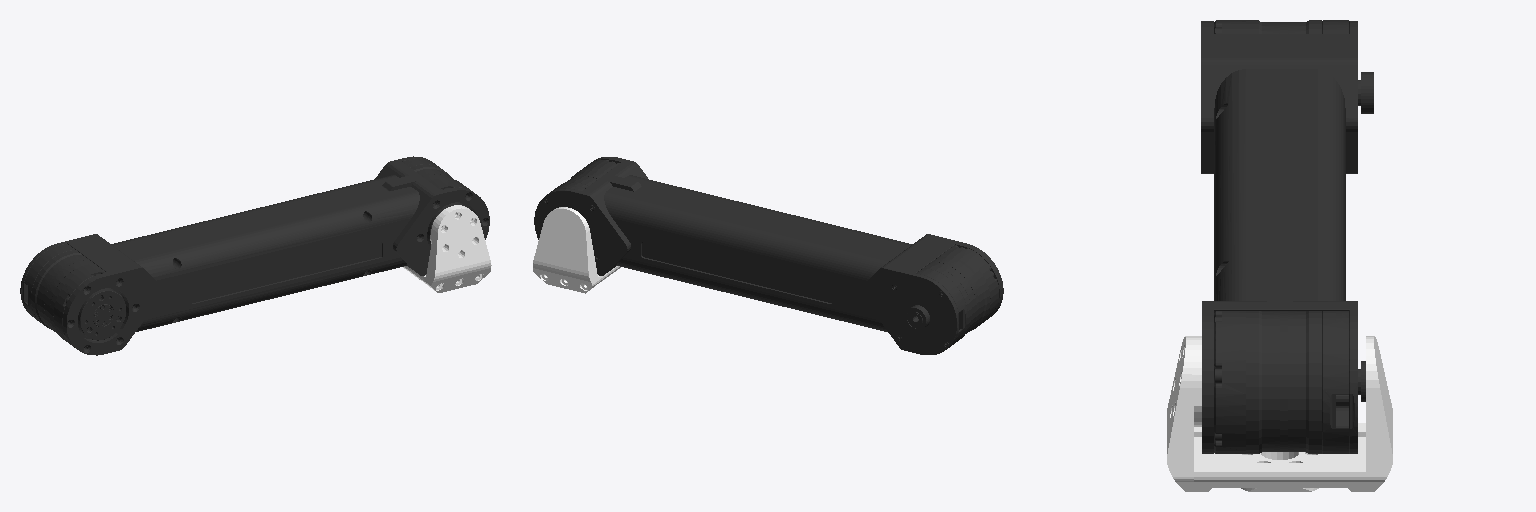
The robot description file, URDF, robot "AirbotPlayTwoFinger":
<?xml version="1.0" encoding="utf-8" ?>
<!-- This URDF was automatically created by SolidWorks to URDF Exporter! Originally created by [author] ([email redacted]) 
     Commit Version: 1.6.0-4-g7f85cfe  Build Version: 1.6.7995.38578
     For more information, please see http://wiki.ros.org/sw_urdf_exporter -->
<robot name="AirbotPlayTwoFinger">
    <mujoco>
        <compiler meshdir="../meshes/" balanceinertia="true" discardvisual="false" />
    </mujoco>
    <link name="base_link">
        <inertial>
            <origin xyz="-2.9949E-05 3.0537E-05 -0.033016" rpy="0 0 0" />
            <mass value="0.44071" />
            <inertia ixx="1.7392E-04" ixy="-3.4525E-07" ixz="-5.9337E-07" iyy="1.7547E-04" iyz="1.1271E-06" izz="1.5925E-04" />
        </inertial>
        <visual>
            <origin xyz="0 0 0" rpy="0 0 0" />
            <geometry>
                <mesh filename="package://airbot_play_twofinger/meshes/base_link.STL" />
            </geometry>
            <material name="">
                <color rgba="0.75294 0.75294 0.75294 1" />
            </material>
        </visual>
        <collision>
            <origin xyz="0 0 0" rpy="0 0 0" />
            <geometry>
                <mesh filename="package://airbot_play_twofinger/meshes/base_link.STL" />
            </geometry>
        </collision>
    </link>
    <link name="link1">
        <inertial>
            <origin xyz="-3.3048E-08 -0.00059451 0.016543" rpy="0 0 0" />
            <mass value="0.051342" />
            <inertia ixx="5.7689E-05" ixy="-7E-11" ixz="-3E-11" iyy="1.6943E-05" iyz="-3.3983E-07" izz="5.5562E-05" />
        </inertial>
        <visual>
            <origin xyz="0 0 0" rpy="0 0 0" />
            <geometry>
                <mesh filename="package://airbot_play_twofinger/meshes/link1.STL" />
            </geometry>
            <material name="">
                <color rgba="1 1 1 1" />
            </material>
        </visual>
        <collision>
            <origin xyz="0 0 0" rpy="0 0 0" />
            <geometry>
                <mesh filename="package://airbot_play_twofinger/meshes/link1.STL" />
            </geometry>
        </collision>
    </link>
    <joint name="joint1" type="revolute">
        <origin xyz="0 0 0" rpy="0 0 0" />
        <parent link="base_link" />
        <child link="link1" />
        <axis xyz="0 0 1" />
        <limit lower="-10" upper="10" effort="100" velocity="1000" />
    </joint>
    <link name="link2">
        <inertial>
            <origin xyz="0.13234 -0.00019055 -0.0019415" rpy="0 0 0" />
            <mass value="1.1379" />
            <inertia ixx="5.3430993E-04" ixy="-4.820824E-05" ixz="7.5502E-07" iyy="0" iyz="-2.6064E-07" izz="1.617805616E-02" />
        </inertial>
        <visual>
            <origin xyz="0 0 0" rpy="0 0 0" />
            <geometry>
                <mesh filename="package://airbot_play_twofinger/meshes/link2.STL" />
            </geometry>
            <material name="">
                <color rgba="0.25098 0.25098 0.25098 1" />
            </material>
        </visual>
        <collision>
            <origin xyz="0 0 0" rpy="0 0 0" />
            <geometry>
                <mesh filename="package://airbot_play_twofinger/meshes/link2.STL" />
            </geometry>
        </collision>
    </link>
    <joint name="joint2" type="revolute">
        <origin xyz="0 0 0.0402" rpy="-1.5708 0.0016463 3.1416" />
        <parent link="link1" />
        <child link="link2" />
        <axis xyz="0 0 1" />
        <limit lower="-10" upper="10" effort="100" velocity="1000" />
    </joint>
    <link name="link3">
        <inertial>
            <origin xyz="0.18498 0.0096239 8.209E-05" rpy="0 0 0" />
            <mass value="0.55615" />
            <inertia ixx="3.6463748E-04" ixy="-4.7568977E-04" ixz="-9.61418E-06" iyy="4.59290981E-03" iyz="-1.90857E-06" izz="4.61730434E-03" />
        </inertial>
        <visual>
            <origin xyz="0 0 0" rpy="0 0 0" />
            <geometry>
                <mesh filename="package://airbot_play_twofinger/meshes/link3.STL" />
            </geometry>
            <material name="">
                <color rgba="0.75294 0.75294 0.75294 1" />
            </material>
        </visual>
        <collision>
            <origin xyz="0 0 0" rpy="0 0 0" />
            <geometry>
                <mesh filename="package://airbot_play_twofinger/meshes/link3.STL" />
            </geometry>
        </collision>
    </link>
    <joint name="joint3" type="revolute">
        <origin xyz="0.264 0 0" rpy="0 0 -2.9169" />
        <parent link="link2" />
        <child link="link3" />
        <axis xyz="0 0 1" />
        <limit lower="-10" upper="10" effort="100" velocity="1000" />
    </joint>
    <link name="link4">
        <inertial>
            <origin xyz="0.05354 -0.0002508 -0.00056729" rpy="0 0 0" />
            <mass value="0.35037" />
            <inertia ixx="1.1078784E-04" ixy="5.68483E-06" ixz="-1.778429E-05" iyy="2.1478415E-04" iyz="-6.32521E-06" izz="1.6720967E-04" />
        </inertial>
        <visual>
            <origin xyz="0 0 0" rpy="0 0 0" />
            <geometry>
                <mesh filename="package://airbot_play_twofinger/meshes/link4.STL" />
            </geometry>
            <material name="">
                <color rgba="0.89804 0.91765 0.92941 1" />
            </material>
        </visual>
        <collision>
            <origin xyz="0 0 0" rpy="0 0 0" />
            <geometry>
                <mesh filename="package://airbot_play_twofinger/meshes/link4.STL" />
            </geometry>
        </collision>
    </link>
    <joint name="joint4" type="revolute">
        <origin xyz="0.25132 0 0" rpy="0 0 -0.22636" />
        <parent link="link3" />
        <child link="link4" />
        <axis xyz="0 0 1" />
        <limit lower="-10" upper="10" effort="100" velocity="1000" />
    </joint>
    <link name="link5">
        <inertial>
            <origin xyz="0.051613 -0.00072588 -0.00061659" rpy="0 0 0" />
            <mass value="0.33138" />
            <inertia ixx="3.1443063E-04" ixy="3.6082E-07" ixz="-7.6431E-07" iyy="2.9391628E-04" iyz="-1.8877E-07" izz="2.9233995E-04" />
        </inertial>
        <visual>
            <origin xyz="0 0 0" rpy="0 0 0" />
            <geometry>
                <mesh filename="package://airbot_play_twofinger/meshes/link5.STL" />
            </geometry>
            <material name="">
                <color rgba="0.41176 0.41176 0.41176 1" />
            </material>
        </visual>
        <collision>
            <origin xyz="0 0 0" rpy="0 0 0" />
            <geometry>
                <mesh filename="package://airbot_play_twofinger/meshes/link5.STL" />
            </geometry>
        </collision>
    </link>
    <joint name="joint5" type="revolute">
        <origin xyz="0.06 -0.0005 -0.002" rpy="-1.5708 -0.0025284 0" />
        <parent link="link4" />
        <child link="link5" />
        <axis xyz="0 0 1" />
        <limit lower="-10" upper="10" effort="100" velocity="1000" />
    </joint>
    <link name="connect_link">
        <inertial>
            <origin xyz="0 0 0" rpy="0 0 0" />
            <mass value="0.00001" />
            <inertia ixx="6.34346460883134E-05" ixy="2.04299805834162E-05" ixz="-3.99923914087956E-08" iyy="5.24195258718733E-05" iyz="2.03068149625313E-08" izz="6.53446125054613E-05" />
        </inertial>
    </link>
    <joint name="joint6" type="revolute">
        <origin xyz="0.075 0 0" rpy="0 0 0" />
        <parent link="link5" />
        <child link="connect_link" />
        <axis xyz="1 0 0" />
        <limit lower="-10" upper="10" effort="100" velocity="1000" />
    </joint>
    <link name="base_link_g">
        <inertial>
            <origin xyz="0.00339303654278191 -2.1205433560656E-05 -0.0099185365078758" rpy="0 0 0" />
            <mass value="0.105853592307918" />
            <inertia ixx="3.93795927851199E-05" ixy="-8.7395226509728E-08" ixz="5.91928672040786E-07" iyy="0.000106376720416166" iyz="-1.82858764303774E-10" izz="0.000125852616063213" />
        </inertial>
        <visual>
            <origin xyz="0 0 0" rpy="0 0 0" />
            <geometry>
                <mesh filename="package://airbot_play_twofinger/meshes/base_link_g.STL" />
            </geometry>
            <material name="">
                <color rgba="0.894117647058823 0.913725490196078 0.929411764705882 1" />
            </material>
        </visual>
        <collision>
            <origin xyz="0 0 0" rpy="0 0 0" />
            <geometry>
                <mesh filename="package://airbot_play_twofinger/meshes/base_link_g.STL" />
            </geometry>
        </collision>
    </link>
    <joint name="connect_joint" type="fixed">
        <origin xyz="0.0457 0 0.01" rpy="0 0 0" />
        <parent link="connect_link" />
        <child link="base_link_g" />
        <axis xyz="1 0 0" />
    </joint>
    <link name="Link1">
        <inertial>
            <origin xyz="0.0164149658242926 9.75754915755189E-09 0.00898193900447147" rpy="0 0 0" />
            <mass value="0.00647716099397792" />
            <inertia ixx="2.95068972140683E-07" ixy="8.63208170411155E-13" ixz="-1.92008628754607E-09" iyy="1.69979619476872E-06" iyz="-1.99232397395103E-13" izz="1.45016449434989E-06" />
        </inertial>
        <visual>
            <origin xyz="0 0 0" rpy="0 0 0" />
            <geometry>
                <mesh filename="package://airbot_play_twofinger/meshes/Link1.STL" />
            </geometry>
            <material name="">
                <color rgba="0.894117647058823 0.913725490196078 0.929411764705882 1" />
            </material>
        </visual>
        <collision>
            <origin xyz="0 0 0" rpy="0 0 0" />
            <geometry>
                <mesh filename="package://airbot_play_twofinger/meshes/Link1.STL" />
            </geometry>
        </collision>
    </link>
    <joint name="Link1" type="revolute">
        <origin xyz="0.036 -0.04 -0.019" rpy="-3.0158E-16 -7.1586E-16 -0.30719" />
        <parent link="base_link_g" />
        <child link="Link1" />
        <axis xyz="0 0 1" />
        <limit lower="0" upper="1" effort="1" velocity="1" />
    </joint>
    <link name="Link11">
        <inertial>
            <origin xyz="0.011366555972498 0.0118642725662323 0.0060000073930068" rpy="0 0 0" />
            <mass value="0.0127543420299361" />
            <inertia ixx="5.68538478020233E-07" ixy="-2.68012262729007E-07" ixz="9.34125984931838E-13" iyy="1.45145776457487E-06" iyz="9.34355360561326E-13" izz="1.50564598220449E-06" />
        </inertial>
        <visual>
            <origin xyz="0 0 0" rpy="0 0 0" />
            <geometry>
                <mesh filename="package://airbot_play_twofinger/meshes/Link11.STL" />
            </geometry>
            <material name="">
                <color rgba="0.894117647058823 0.913725490196078 0.929411764705882 1" />
            </material>
        </visual>
        <collision>
            <origin xyz="0 0 0" rpy="0 0 0" />
            <geometry>
                <mesh filename="package://airbot_play_twofinger/meshes/Link11.STL" />
            </geometry>
        </collision>
    </link>
    <joint name="Link11" type="revolute">
        <origin xyz="0.042 0 0.003" rpy="5.0393E-16 5.6225E-16 0.30719" />
        <parent link="Link1" />
        <child link="Link11" />
        <axis xyz="0 0 1" />
        <limit lower="-1" upper="0" effort="1" velocity="1" />
    </joint>
    <link name="Link2">
        <inertial>
            <origin xyz="0.0164149658242926 9.75754915755189E-09 0.00898193900447147" rpy="0 0 0" />
            <mass value="0.00647716099397793" />
            <inertia ixx="2.95068972140683E-07" ixy="8.63208169650113E-13" ixz="-1.92008628755341E-09" iyy="1.69979619476872E-06" iyz="-1.99232397320157E-13" izz="1.45016449434989E-06" />
        </inertial>
        <visual>
            <origin xyz="0 0 0" rpy="0 0 0" />
            <geometry>
                <mesh filename="package://airbot_play_twofinger/meshes/Link2.STL" />
            </geometry>
            <material name="">
                <color rgba="0.894117647058823 0.913725490196078 0.929411764705882 1" />
            </material>
        </visual>
        <collision>
            <origin xyz="0 0 0" rpy="0 0 0" />
            <geometry>
                <mesh filename="package://airbot_play_twofinger/meshes/Link2.STL" />
            </geometry>
        </collision>
    </link>
    <joint name="Link2" type="revolute">
        <origin xyz="0.036 0.04 -0.019" rpy="-2.6397E-16 3.7199E-16 0.30719" />
        <parent link="base_link_g" />
        <child link="Link2" />
        <axis xyz="0 0 1" />
        <limit lower="-1" upper="0" effort="1" velocity="1" />
    </joint>
    <link name="Link22">
        <inertial>
            <origin xyz="-0.011366555972498 0.0118642725662323 -0.0060000073930068" rpy="0 0 0" />
            <mass value="0.0127543420299362" />
            <inertia ixx="5.68538478020238E-07" ixy="2.6801226272901E-07" ixz="9.34125986250171E-13" iyy="1.45145776457489E-06" iyz="-9.34355361631596E-13" izz="1.5056459822045E-06" />
        </inertial>
        <visual>
            <origin xyz="0 0 0" rpy="0 0 0" />
            <geometry>
                <mesh filename="package://airbot_play_twofinger/meshes/Link22.STL" />
            </geometry>
            <material name="">
                <color rgba="0.894117647058823 0.913725490196078 0.929411764705882 1" />
            </material>
        </visual>
        <collision>
            <origin xyz="0 0 0" rpy="0 0 0" />
            <geometry>
                <mesh filename="package://airbot_play_twofinger/meshes/Link22.STL" />
            </geometry>
        </collision>
    </link>
    <joint name="Link22" type="revolute">
        <origin xyz="0.042 0 0.015" rpy="-3.641E-16 2.4584E-16 2.8344" />
        <parent link="Link2" />
        <child link="Link22" />
        <axis xyz="0 0 1" />
        <limit lower="0" upper="1" effort="1" velocity="1" />
    </joint>
    <transmission name="trans_joint1">
        <type>transmission_interface/SimpleTransmission</type>
        <joint name="joint1">
            <hardwareInterface>hardware_interface/PositionJointInterface</hardwareInterface>
        </joint>
        <actuator name="joint1_motor">
            <hardwareInterface>hardware_interface/PositionJointInterface</hardwareInterface>
            <mechanicalReduction>1</mechanicalReduction>
        </actuator>
    </transmission>
    <transmission name="trans_joint2">
        <type>transmission_interface/SimpleTransmission</type>
        <joint name="joint2">
            <hardwareInterface>hardware_interface/PositionJointInterface</hardwareInterface>
        </joint>
        <actuator name="joint2_motor">
            <hardwareInterface>hardware_interface/PositionJointInterface</hardwareInterface>
            <mechanicalReduction>1</mechanicalReduction>
        </actuator>
    </transmission>
    <transmission name="trans_joint3">
        <type>transmission_interface/SimpleTransmission</type>
        <joint name="joint3">
            <hardwareInterface>hardware_interface/PositionJointInterface</hardwareInterface>
        </joint>
        <actuator name="joint3_motor">
            <hardwareInterface>hardware_interface/PositionJointInterface</hardwareInterface>
            <mechanicalReduction>1</mechanicalReduction>
        </actuator>
    </transmission>
    <transmission name="trans_joint4">
        <type>transmission_interface/SimpleTransmission</type>
        <joint name="joint4">
            <hardwareInterface>hardware_interface/PositionJointInterface</hardwareInterface>
        </joint>
        <actuator name="joint4_motor">
            <hardwareInterface>hardware_interface/PositionJointInterface</hardwareInterface>
            <mechanicalReduction>1</mechanicalReduction>
        </actuator>
    </transmission>
    <transmission name="trans_joint5">
        <type>transmission_interface/SimpleTransmission</type>
        <joint name="joint5">
            <hardwareInterface>hardware_interface/PositionJointInterface</hardwareInterface>
        </joint>
        <actuator name="joint5_motor">
            <hardwareInterface>hardware_interface/PositionJointInterface</hardwareInterface>
            <mechanicalReduction>1</mechanicalReduction>
        </actuator>
    </transmission>
    <transmission name="trans_joint6">
        <type>transmission_interface/SimpleTransmission</type>
        <joint name="joint6">
            <hardwareInterface>hardware_interface/PositionJointInterface</hardwareInterface>
        </joint>
        <actuator name="joint6_motor">
            <hardwareInterface>hardware_interface/PositionJointInterface</hardwareInterface>
            <mechanicalReduction>1</mechanicalReduction>
        </actuator>
    </transmission>
    <transmission name="trans_Link1">
        <type>transmission_interface/SimpleTransmission</type>
        <joint name="Link1">
            <hardwareInterface>hardware_interface/EffortJointInterface</hardwareInterface>
        </joint>
        <actuator name="Link1_motor">
            <hardwareInterface>hardware_interface/EffortJointInterface</hardwareInterface>
            <mechanicalReduction>1</mechanicalReduction>
        </actuator>
    </transmission>
    <transmission name="trans_Link11">
        <type>transmission_interface/SimpleTransmission</type>
        <joint name="Link11">
            <hardwareInterface>hardware_interface/EffortJointInterface</hardwareInterface>
        </joint>
        <actuator name="Link11_motor">
            <hardwareInterface>hardware_interface/EffortJointInterface</hardwareInterface>
            <mechanicalReduction>1</mechanicalReduction>
        </actuator>
    </transmission>
    <transmission name="trans_Link2">
        <type>transmission_interface/SimpleTransmission</type>
        <joint name="Link2">
            <hardwareInterface>hardware_interface/EffortJointInterface</hardwareInterface>
        </joint>
        <actuator name="Link2_motor">
            <hardwareInterface>hardware_interface/EffortJointInterface</hardwareInterface>
            <mechanicalReduction>1</mechanicalReduction>
        </actuator>
    </transmission>
    <transmission name="trans_Link22">
        <type>transmission_interface/SimpleTransmission</type>
        <joint name="Link22">
            <hardwareInterface>hardware_interface/EffortJointInterface</hardwareInterface>
        </joint>
        <actuator name="Link22_motor">
            <hardwareInterface>hardware_interface/EffortJointInterface</hardwareInterface>
            <mechanicalReduction>1</mechanicalReduction>
        </actuator>
    </transmission>
    <gazebo>
        <plugin name="gazebo_ros_control">
            <robotNamespace>/</robotNamespace>
        </plugin>
    </gazebo>
</robot>

--- Render facts (derived) ---
Views: 3 orthographic renders of the robot side by side, from view 1: azimuth 30°, elevation 25°; view 2: azimuth 150°, elevation 25°; view 3: azimuth 270°, elevation 25°.
Robot: AirbotPlayTwoFinger — 12 links, 11 joints (10 revolute, 1 fixed); root link base_link; default pose: every joint at zero.
Links seen in each view (by area): view 1: link2, link1; view 2: link2, link1; view 3: link2, link1.
Link boxes in pixels (left/top/right/bottom): link2: left=20, top=156, right=489, bottom=355; link1: left=403, top=205, right=491, bottom=292; link2: left=534, top=157, right=1003, bottom=354; link1: left=533, top=207, right=620, bottom=293; link2: left=1201, top=20, right=1373, bottom=453; link1: left=1167, top=336, right=1392, bottom=491.
Bounding box of the posed robot: 0.32 × 0.0872 × 0.068 m (x, y, z).
2 mesh visuals loaded from 11 distinct referenced files (2 binary STL); not drawn: 9 (reference not matched to a file when rendering).